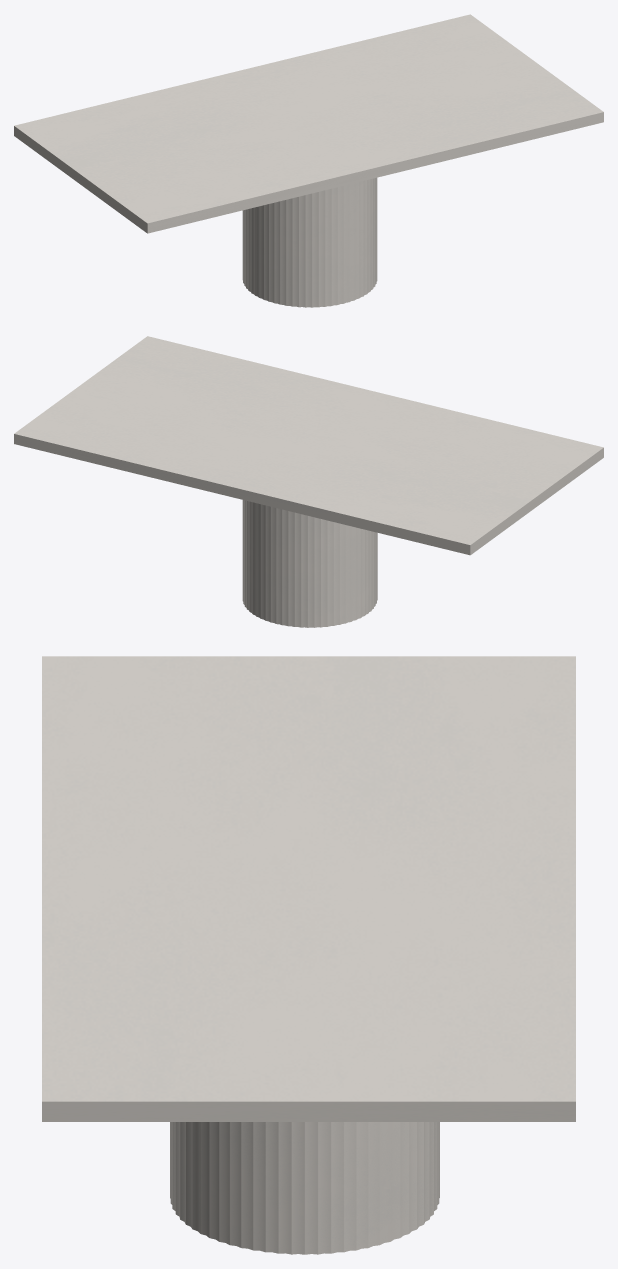
File: pearlwhite_recta_standard_ripple.glb
3 renders of one model, top to bottom at view 1: azimuth 30°, elevation 25°; view 2: azimuth 150°, elevation 25°; view 3: azimuth 270°, elevation 25°, orthographic. The views are drawn at different scales.
Parts seen in each view (by area): view 1: tabletop_recta_standard.002, tableleg_ripple.018; view 2: tabletop_recta_standard.002, tableleg_ripple.018; view 3: tabletop_recta_standard.002, tableleg_ripple.018.
Part boxes in pixels (left/top/right/bottom): tabletop_recta_standard.002: left=14, top=14, right=603, bottom=233; tableleg_ripple.018: left=242, top=177, right=377, bottom=307; tabletop_recta_standard.002: left=14, top=336, right=603, bottom=555; tableleg_ripple.018: left=242, top=500, right=377, bottom=627; tabletop_recta_standard.002: left=42, top=656, right=575, bottom=1121; tableleg_ripple.018: left=170, top=1122, right=439, bottom=1254.
Bounding box in the file's own units: 7.5 × 2.5 × 3.8.
2 materials, 2 textured.
